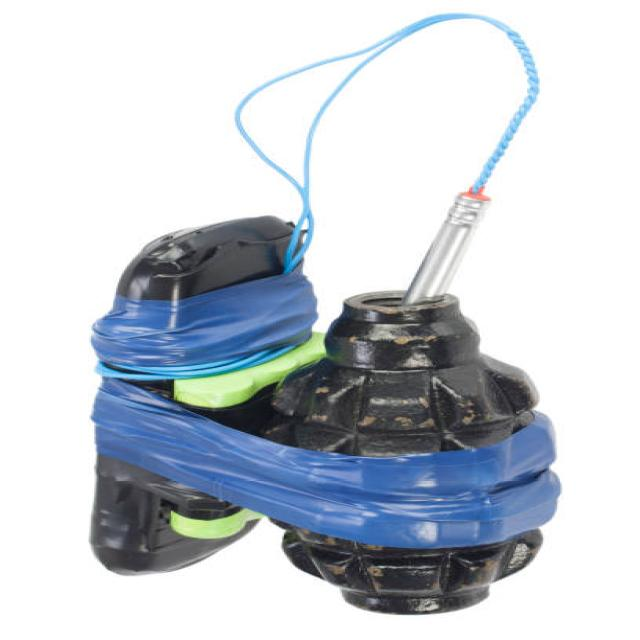grenade: (266, 282, 566, 623)
